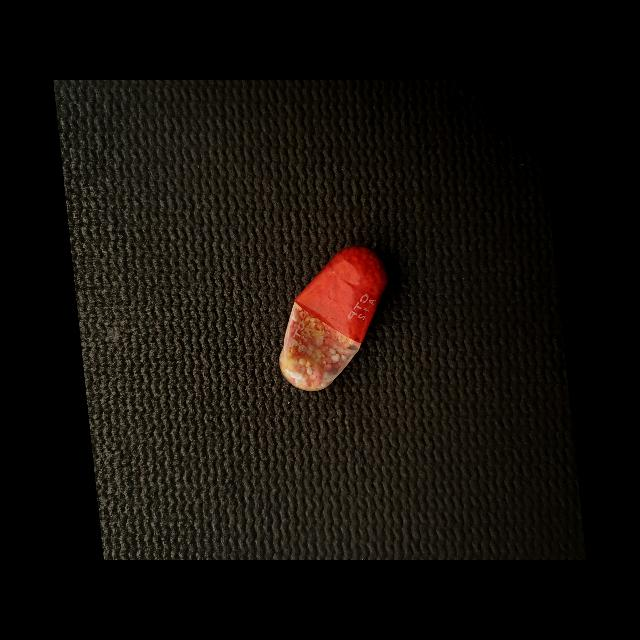Defective Capsule: (279, 246, 387, 391)
